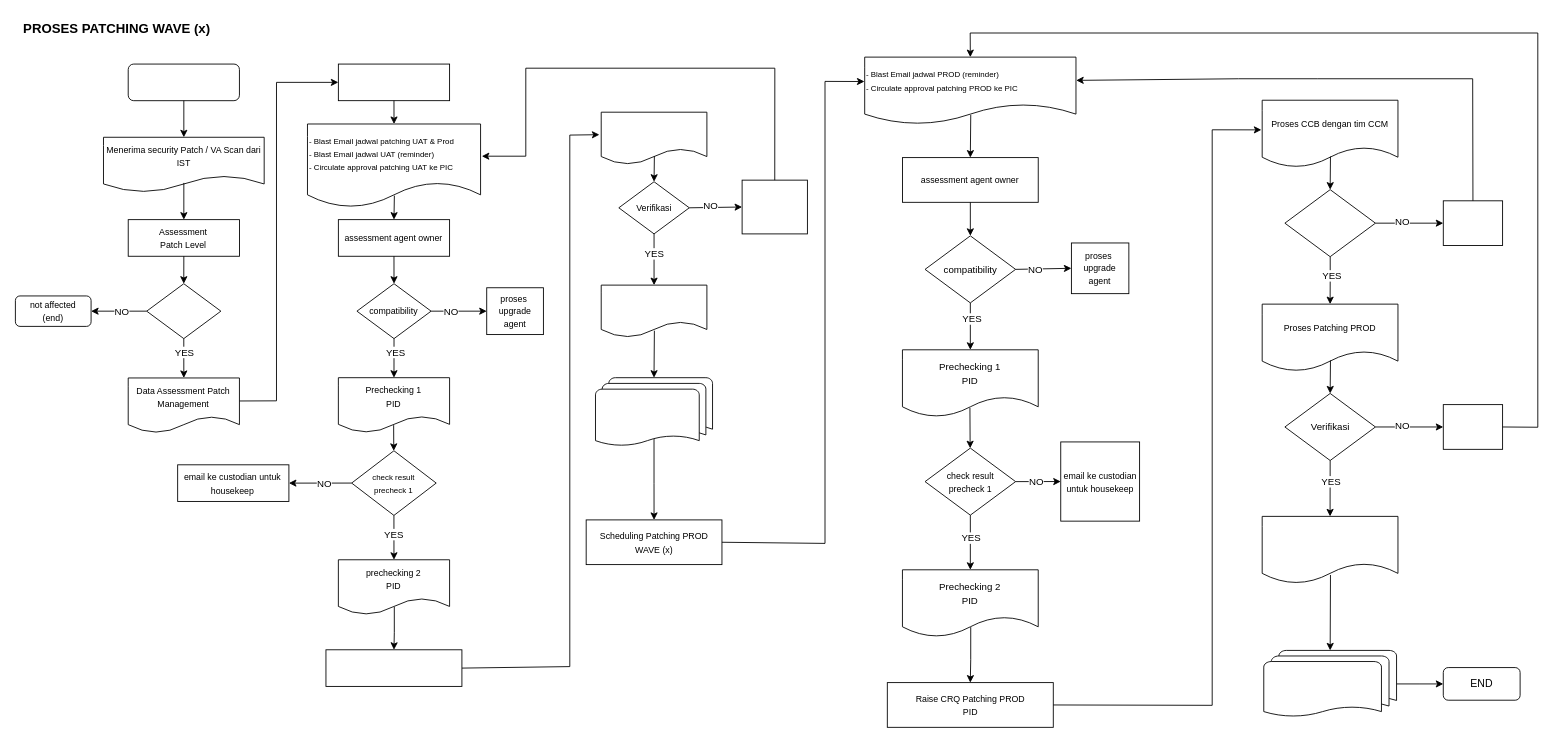
The diagram is 1560 pixels wide and 743 high, and some of its shapes have lost their labels. The box of each missing label's shape, as (x1, y1, x2, y2) in pixels:
Approval CCB: (1284, 189, 1375, 257)
impacted: (146, 283, 221, 339)
PROD Sign off full assign dari custodian: (1263, 650, 1397, 717)
Proses Patching UAT: (600, 111, 707, 164)
Raise CRQ Patching UAT PID: (325, 649, 462, 686)
Reschedule: (1442, 200, 1503, 246)
Rollback Reschedule atau VRA: (1442, 404, 1503, 449)
Rollback Reschedule VRA: (741, 179, 807, 234)
Scheduling Patching WAVE (x): (337, 63, 450, 101)
Start: (127, 63, 239, 101)
Tim Patch sent PROD Sign Off ke custodian: (1261, 516, 1398, 583)
Tim Patch sent UAT Sign Off ke custodian: (600, 284, 707, 337)
UAT Sign off full assign dari custodian: (595, 377, 713, 447)
